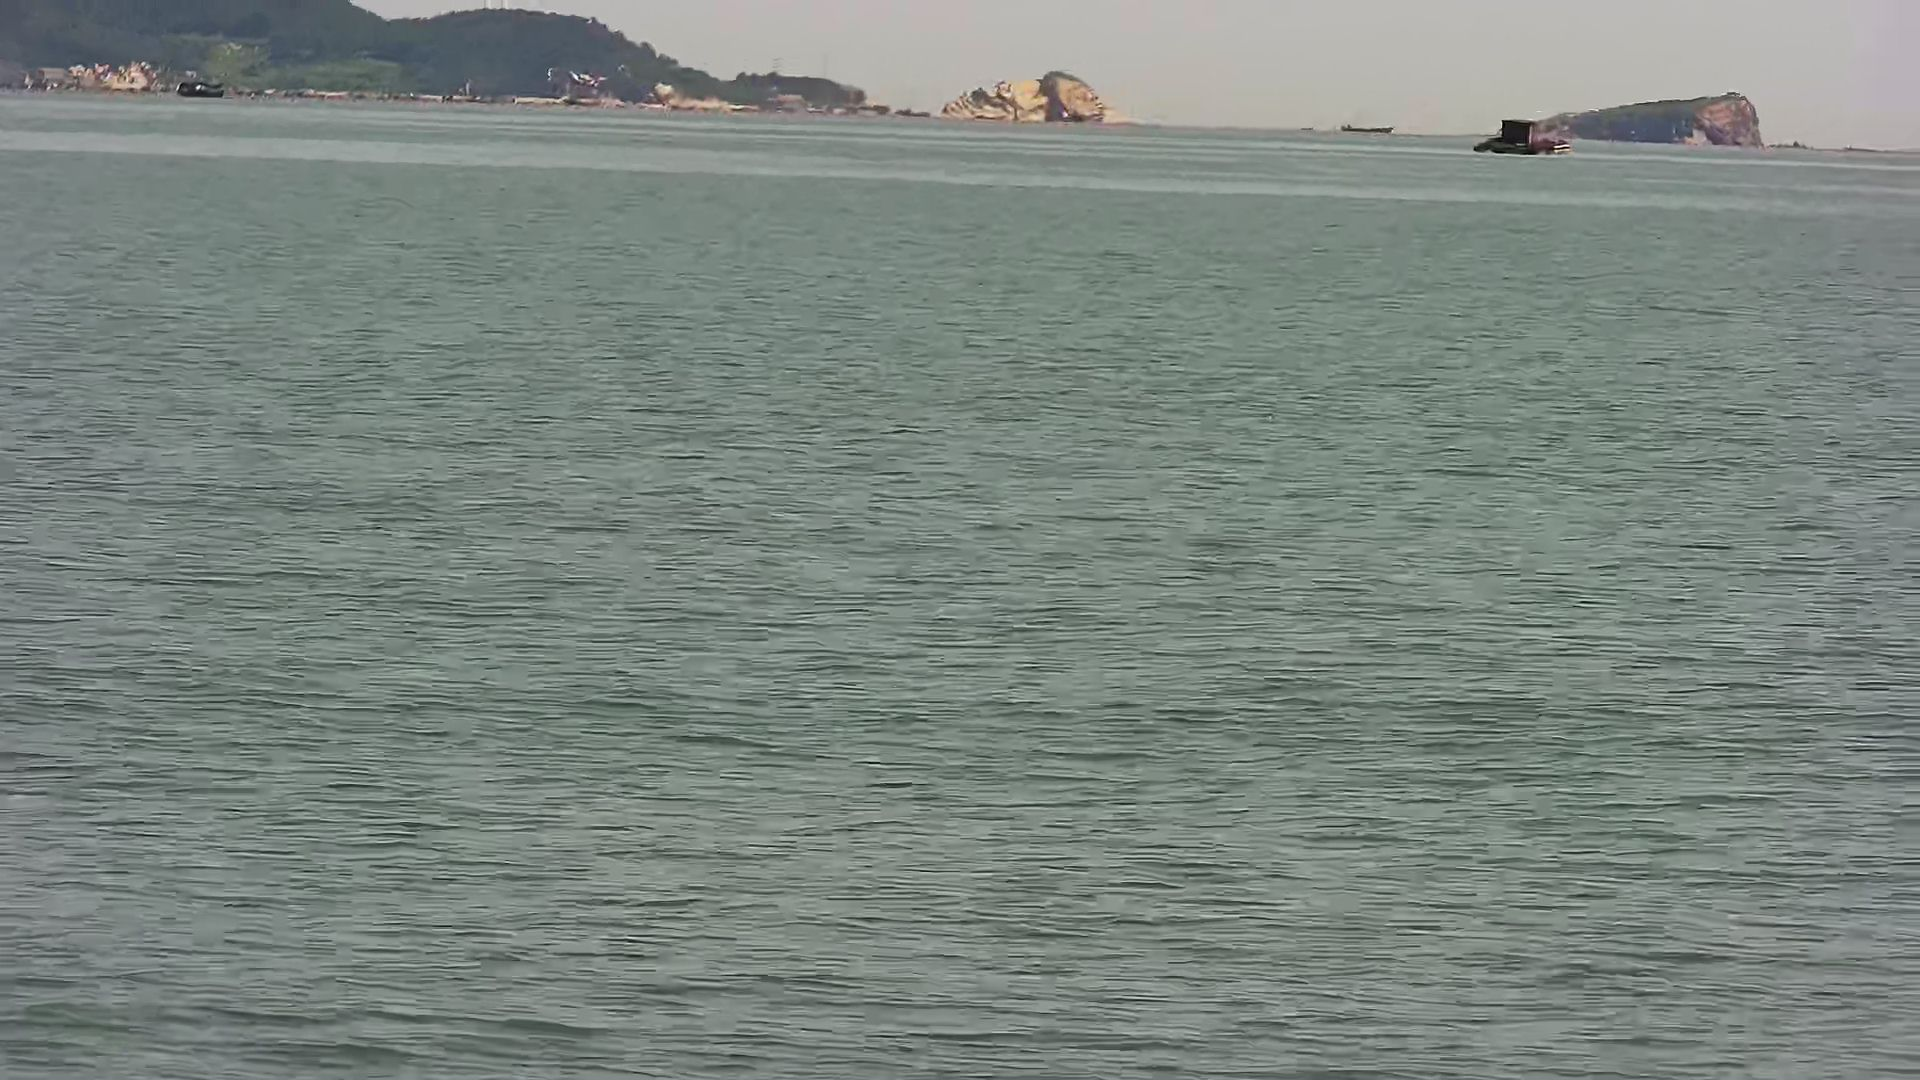platform: (1473, 116, 1573, 156)
rock: (1513, 69, 1780, 152), (915, 58, 1145, 125)
